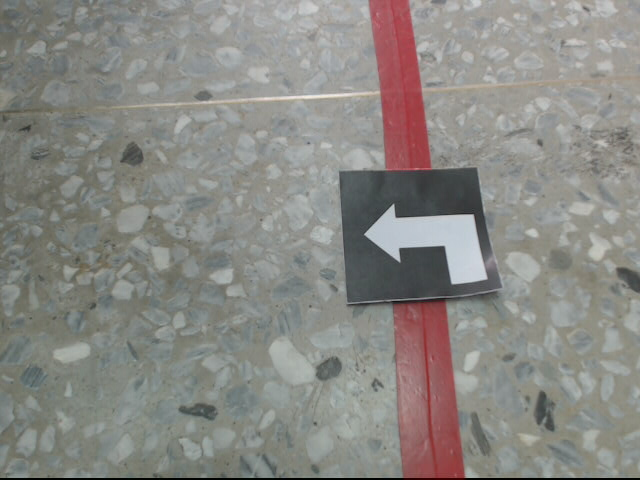left: (338, 169, 502, 302)
